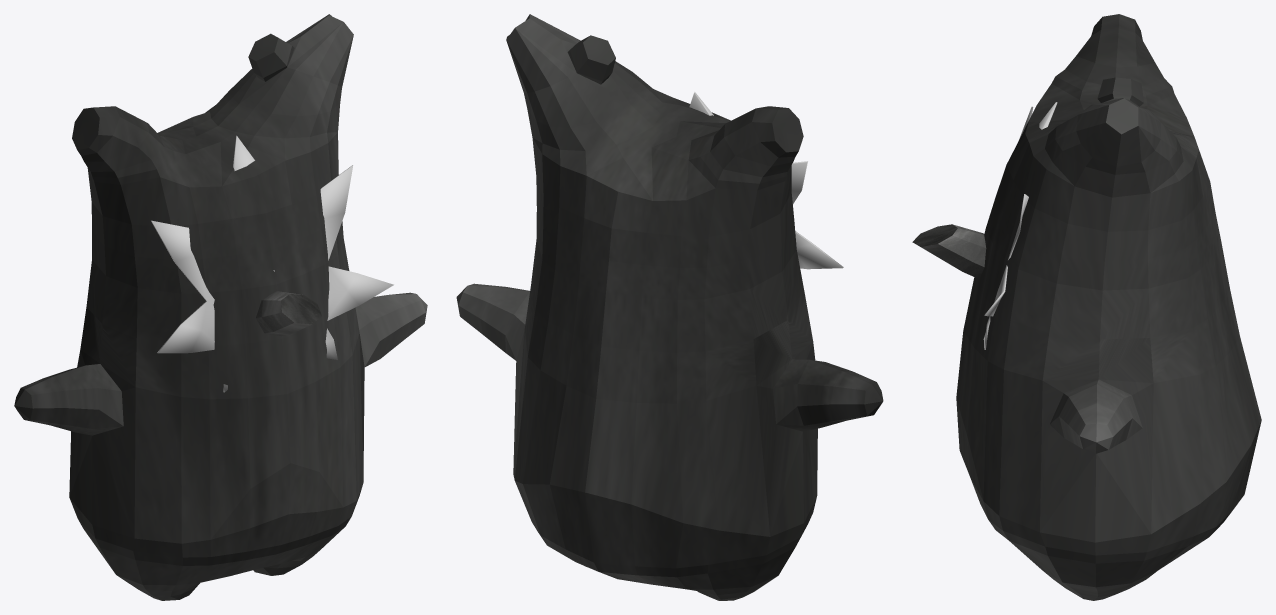
Rendered from frame_0035.obj.
3 views of the same model, side by side, from view 1: azimuth 30°, elevation 25°; view 2: azimuth 150°, elevation 25°; view 3: azimuth 270°, elevation 25° (orthographic). The views are drawn at different scales.
Visible parts, largest first — view 1: korok, leaf.003_柱体.013, nose.003_柱体.011; view 2: korok, leaf.003_柱体.013; view 3: korok, nose.003_柱体.011, leaf.003_柱体.013.
Boxes of the visible parts, x1,y1,x2,y2 form: korok: [14, 14, 427, 600]; leaf.003_柱体.013: [151, 135, 393, 392]; nose.003_柱体.011: [256, 291, 321, 336]; korok: [456, 14, 883, 600]; leaf.003_柱体.013: [689, 92, 843, 269]; korok: [956, 14, 1261, 600]; nose.003_柱体.011: [912, 224, 986, 279]; leaf.003_柱体.013: [983, 102, 1057, 349].
Size of the model in its own units: 1.84 by 2.25 by 1.34.
